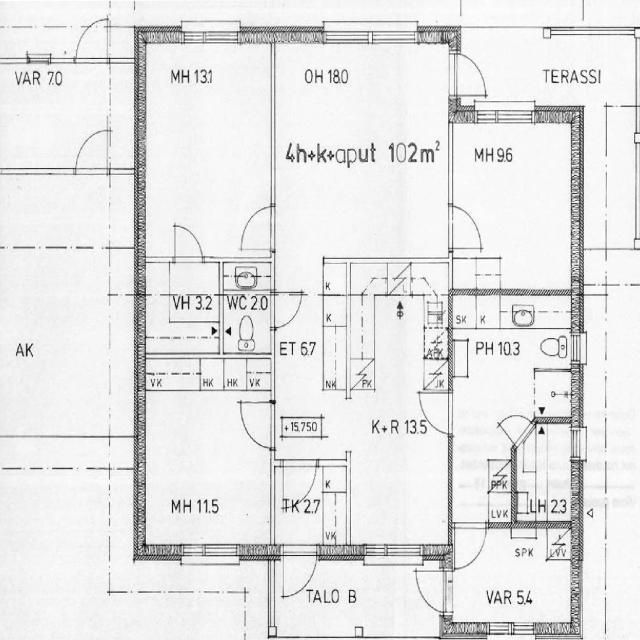door: (284, 544, 316, 600), (498, 400, 534, 448), (283, 459, 316, 511), (237, 402, 275, 447), (412, 571, 452, 612), (239, 173, 275, 216), (455, 521, 486, 570), (76, 16, 107, 64), (76, 126, 107, 174), (418, 392, 452, 434), (473, 74, 497, 122), (271, 292, 301, 327), (522, 258, 544, 294)
